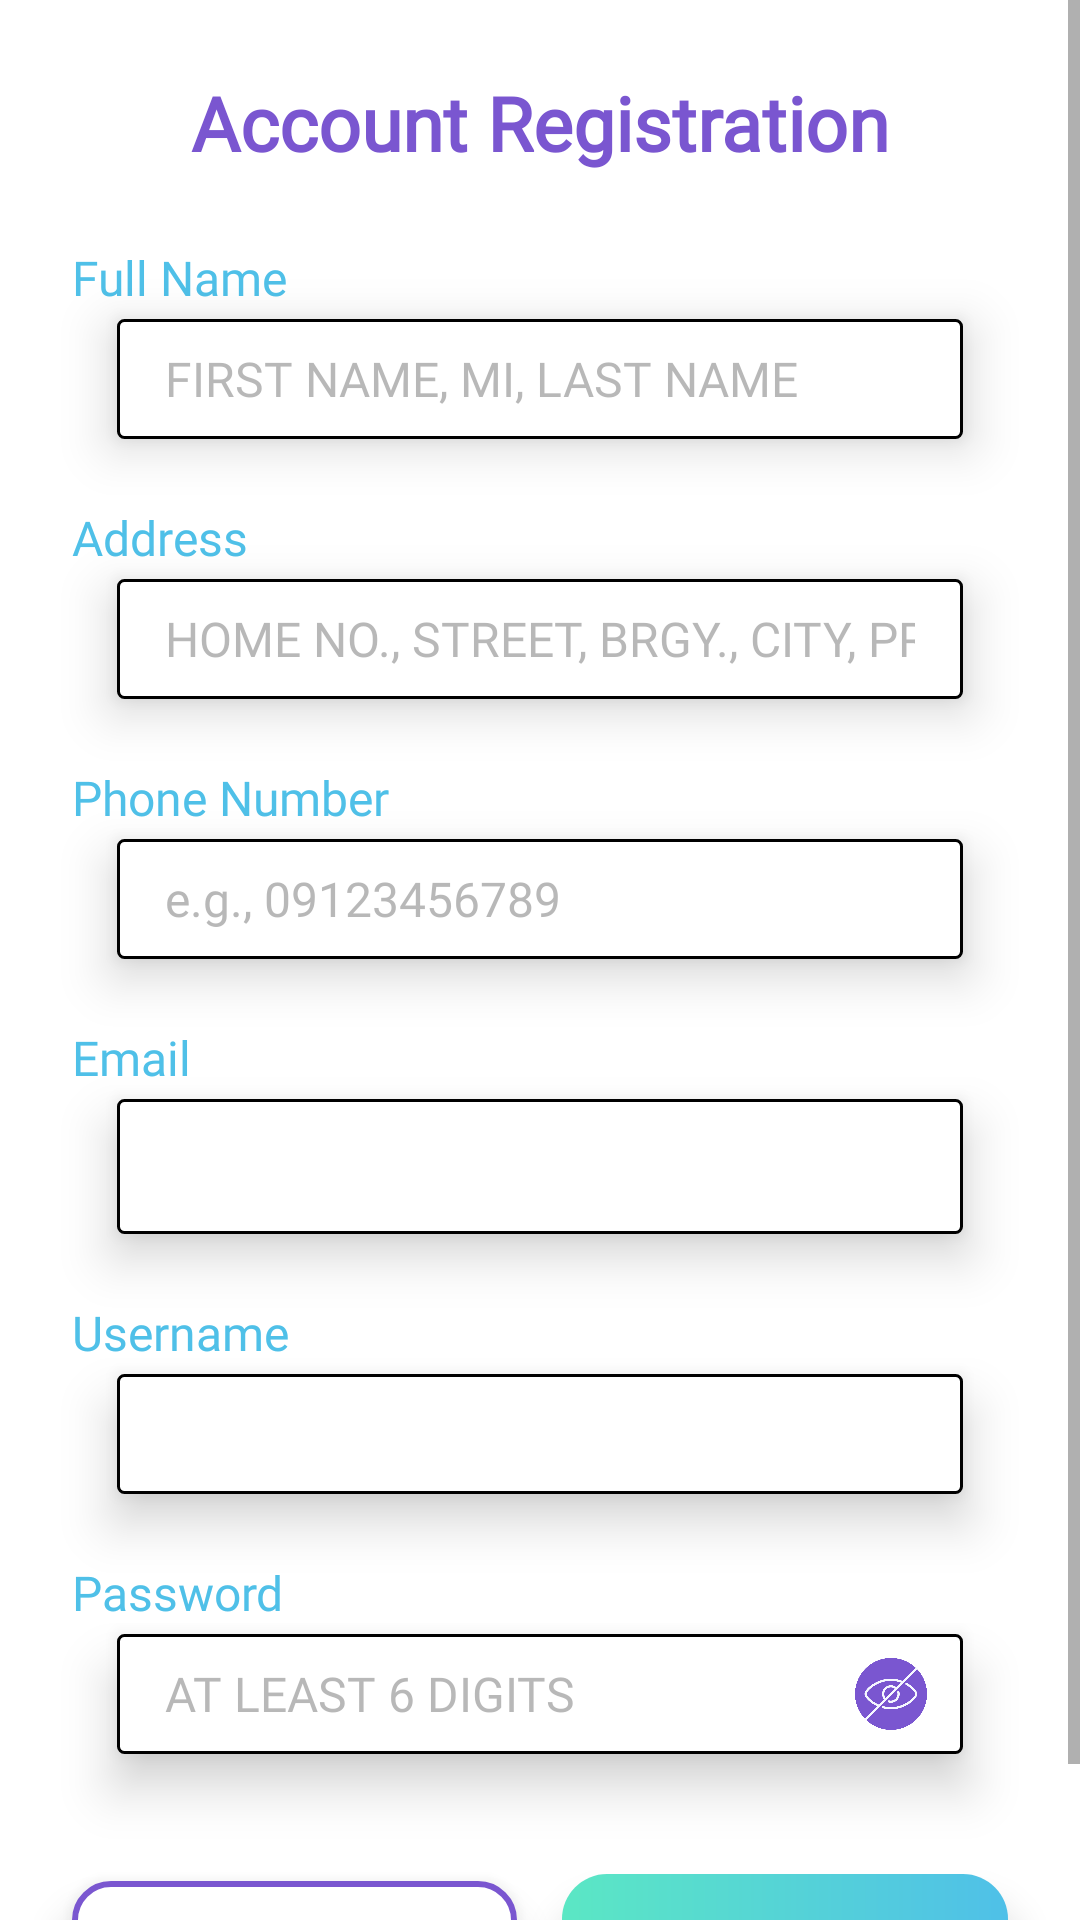

Icons on this 1080 × 1920 Android screen, each with the point to tap as [x,y]:
Toggle password visibility: [891,1694]
